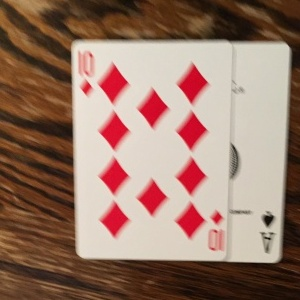card: (72, 40, 228, 260), (228, 44, 291, 263)
